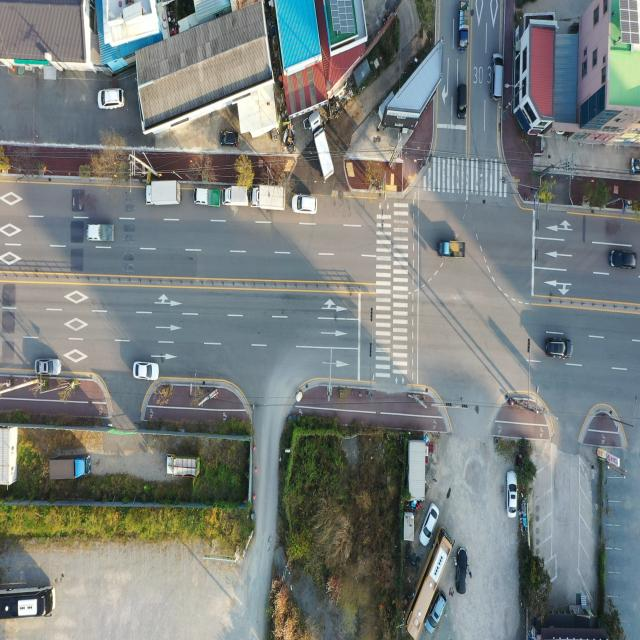car: (423, 593, 450, 634), (96, 84, 125, 114), (421, 507, 441, 545), (489, 53, 505, 100), (457, 545, 470, 596), (505, 470, 518, 518), (611, 250, 639, 270), (546, 340, 573, 360), (293, 195, 319, 215), (454, 82, 468, 119), (133, 361, 158, 380), (34, 358, 60, 376), (218, 130, 240, 148)
large_bus: (405, 528, 453, 640), (0, 584, 57, 624)
medium_truck: (308, 104, 332, 180), (46, 450, 94, 486), (144, 178, 182, 210), (250, 184, 288, 214)
small_truck: (192, 181, 224, 210), (166, 456, 201, 478), (457, 0, 471, 53), (220, 182, 250, 202), (86, 222, 115, 242), (437, 240, 463, 260)
